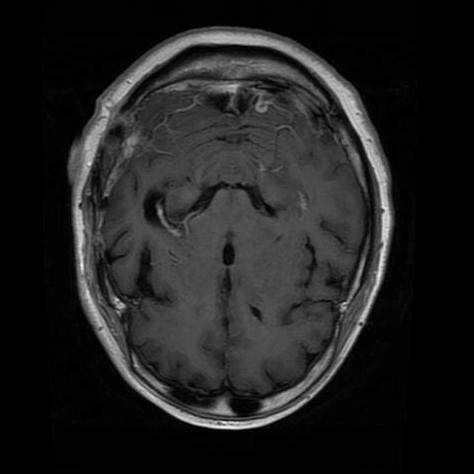Tumour-Glioma: (99, 263, 154, 334)
